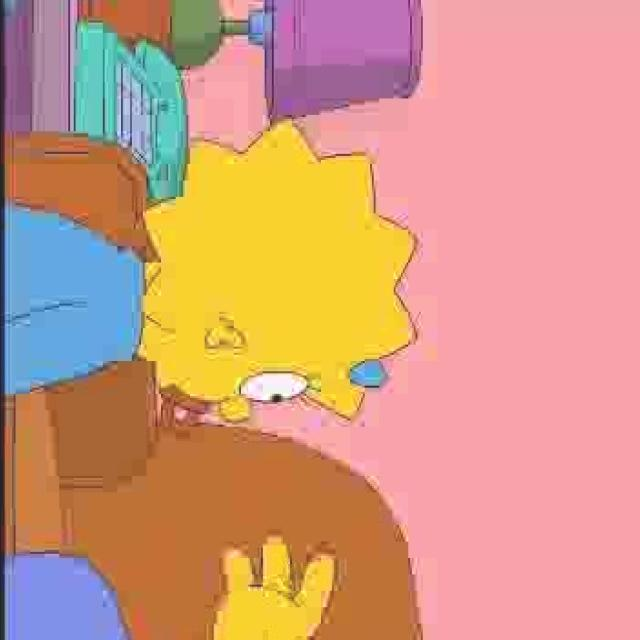Maggie Simpson: (132, 110, 420, 427)
